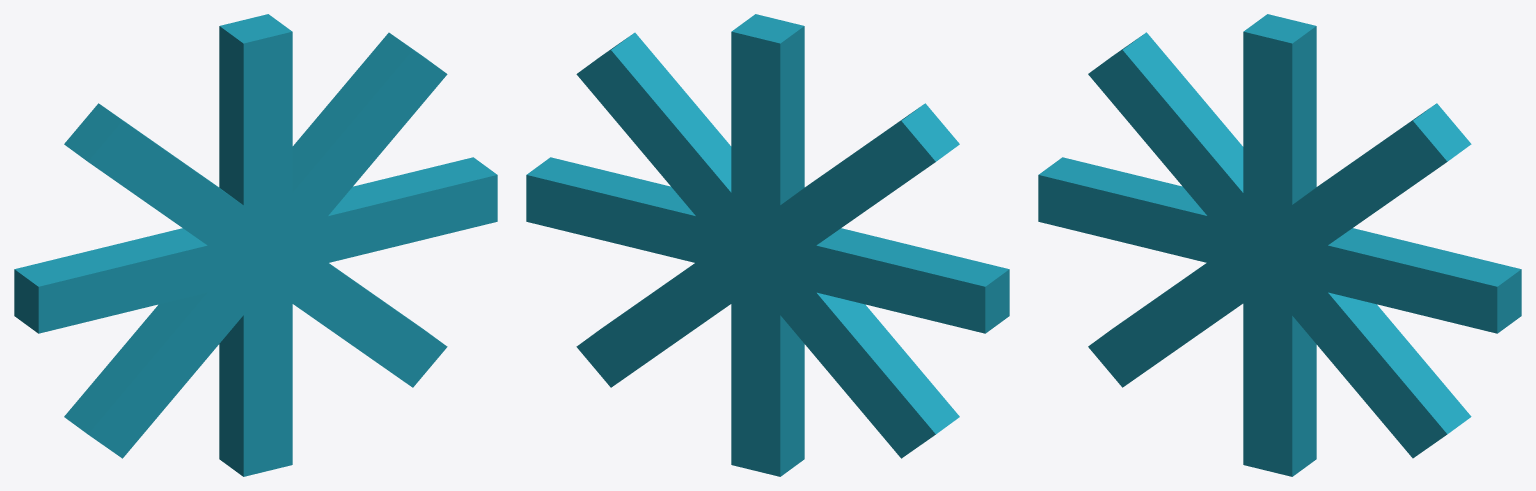
File: star2.glb
3 renders of one model, left to right at view 1: azimuth 30°, elevation 25°; view 2: azimuth 150°, elevation 25°; view 3: azimuth 330°, elevation 25°, orthographic.
Parts seen in each view (by area): view 1: Mesh_Mesh_head_geo.001_lambert2SG.001; view 2: Mesh_Mesh_head_geo.001_lambert2SG.001; view 3: Mesh_Mesh_head_geo.001_lambert2SG.001.
Boxes of the visible parts, x1,y1,x2,y2 form: Mesh_Mesh_head_geo.001_lambert2SG.001: (14, 14, 497, 476); Mesh_Mesh_head_geo.001_lambert2SG.001: (526, 14, 1009, 476); Mesh_Mesh_head_geo.001_lambert2SG.001: (1038, 14, 1521, 476).
Size of the model in its own units: 0.44 by 0.397 by 0.04.
